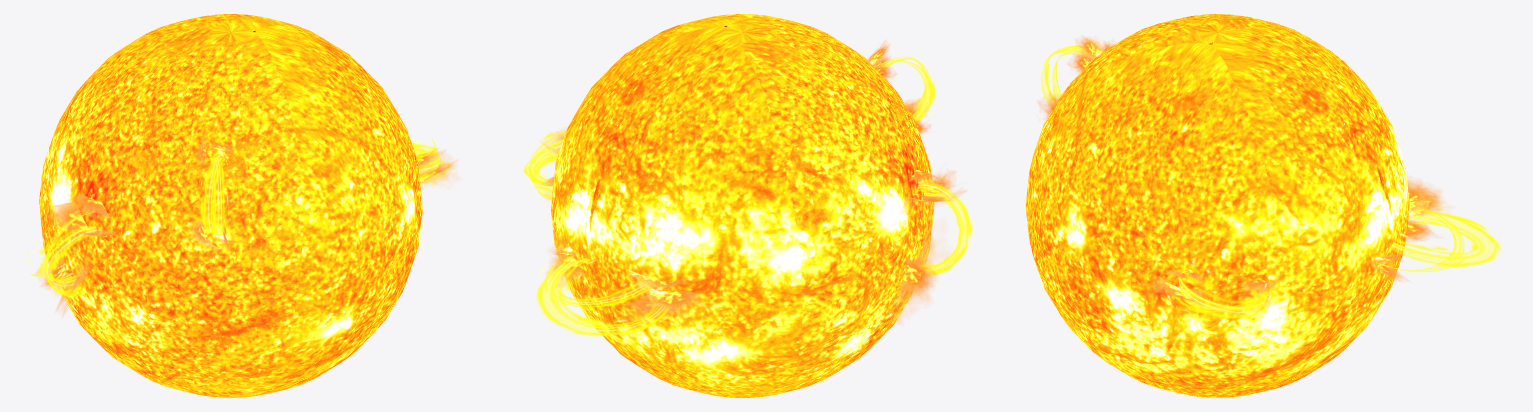
Rendered from Sun.glb.
3 renders of one model, left to right at view 1: azimuth 30°, elevation 25°; view 2: azimuth 150°, elevation 25°; view 3: azimuth 270°, elevation 25°, orthographic.
Parts seen in each view (by area): view 1: Sphere.001, Cylinder.002, Cylinder.005, Cylinder.004, Cylinder.003, Plane.003, Plane.005, Plane.016, Cylinder.001, Plane.011, Plane.010, Plane.013; view 2: Sphere.001, Cylinder.006, Cylinder.007, Cylinder.003, Plane.011, Cylinder.001, Plane.004, Plane.010, Cylinder.002, Cylinder.004, Plane.006, Plane.008 (+4 smaller); view 3: Sphere.001, Cylinder.006, Cylinder.001, Cylinder.007, Cylinder, Plane.004, Plane.001, Plane.016, Cylinder.005, Plane.006, Plane.019, Plane.000.
Boxes of the visible parts, x1=… form: Sphere.001: x1=39, y1=14, x2=422, y2=397; Cylinder.002: x1=22, y1=210, x2=98, y2=283; Cylinder.005: x1=208, y1=157, x2=230, y2=235; Cylinder.004: x1=199, y1=152, x2=229, y2=233; Cylinder.003: x1=40, y1=212, x2=93, y2=297; Plane.003: x1=44, y1=202, x2=103, y2=236; Plane.005: x1=63, y1=193, x2=110, y2=219; Plane.016: x1=419, y1=150, x2=457, y2=185; Cylinder.001: x1=412, y1=133, x2=440, y2=179; Plane.011: x1=56, y1=253, x2=90, y2=316; Plane.010: x1=36, y1=256, x2=66, y2=294; Plane.013: x1=187, y1=219, x2=222, y2=249; Sphere.001: x1=551, y1=14, x2=934, y2=397; Cylinder.006: x1=536, y1=258, x2=669, y2=339; Cylinder.007: x1=540, y1=256, x2=661, y2=313; Cylinder.003: x1=913, y1=179, x2=976, y2=274; Plane.011: x1=888, y1=223, x2=946, y2=323; Cylinder.001: x1=529, y1=126, x2=565, y2=201; Plane.004: x1=637, y1=278, x2=710, y2=311; Plane.010: x1=900, y1=258, x2=936, y2=294; Cylinder.002: x1=917, y1=181, x2=970, y2=279; Cylinder.004: x1=875, y1=60, x2=935, y2=122; Plane.006: x1=622, y1=299, x2=687, y2=321; Plane.008: x1=547, y1=241, x2=585, y2=286; Sphere.001: x1=1025, y1=14, x2=1409, y2=397; Cylinder.006: x1=1389, y1=209, x2=1504, y2=267; Cylinder.001: x1=1178, y1=258, x2=1267, y2=319; Cylinder.007: x1=1378, y1=205, x2=1472, y2=273; Cylinder: x1=1167, y1=288, x2=1271, y2=312; Plane.004: x1=1408, y1=183, x2=1450, y2=215; Plane.001: x1=1407, y1=177, x2=1435, y2=213; Plane.016: x1=1151, y1=276, x2=1208, y2=301; Cylinder.005: x1=1041, y1=46, x2=1085, y2=105; Plane.006: x1=1405, y1=219, x2=1441, y2=241; Plane.019: x1=1239, y1=275, x2=1280, y2=298; Plane.000: x1=1075, y1=36, x2=1106, y2=60.
Bounding box in the file's own units: 2.82 × 2.08 × 2.69.
4 materials, 4 textured.
